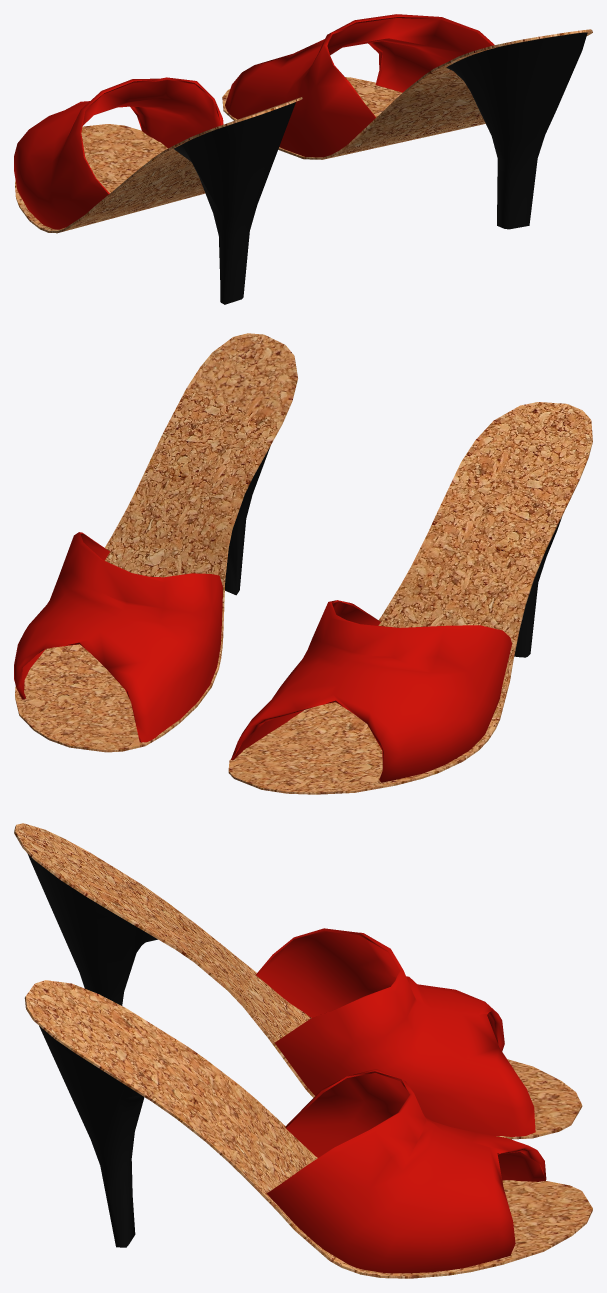
File: Shoes 4.FBX
3 renders of one model, top to bottom at view 1: azimuth 30°, elevation 25°; view 2: azimuth 150°, elevation 25°; view 3: azimuth 270°, elevation 25°, orthographic. The views are drawn at different scales.
Visible parts, largest first — view 1: right shoe, left shoe; view 2: left shoe, right shoe; view 3: right shoe, left shoe.
Part boxes in pixels (x1,y1,x2,y2): right shoe: [222, 14, 592, 229]; left shoe: [14, 77, 302, 304]; left shoe: [228, 402, 592, 794]; right shoe: [14, 333, 297, 752]; right shoe: [24, 980, 592, 1278]; left shoe: [14, 823, 582, 1139].
Bounding box in the file's own units: 191 × 194 × 92.5.
Materials: 1 (1 with a texture image).
